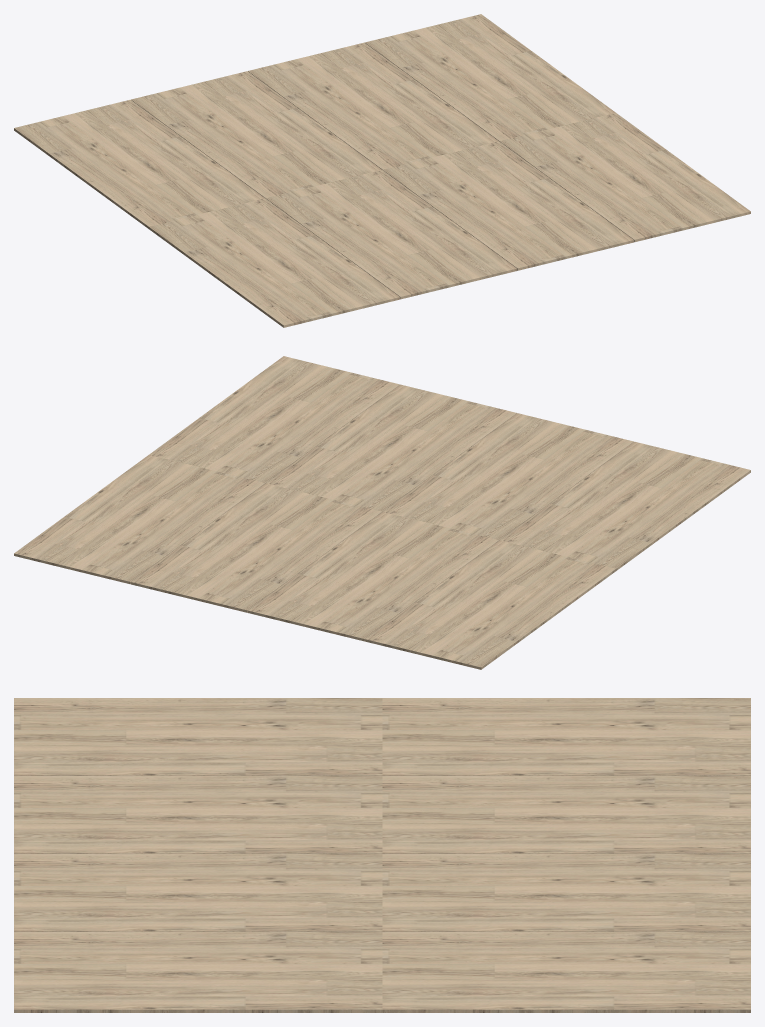
3 views of the same model, one above another, from view 1: azimuth 30°, elevation 25°; view 2: azimuth 150°, elevation 25°; view 3: azimuth 270°, elevation 25° (orthographic). The views are drawn at different scales.
Parts seen in each view (by area): view 1: 3DGeom-3, 3DGeom-2, 3DGeom-4, 3DGeom-5; view 2: 3DGeom-3, 3DGeom-2, 3DGeom-4, 3DGeom-5; view 3: 3DGeom-2, 3DGeom-3, 3DGeom-4, 3DGeom-5.
Boxes of the visible parts, x1,y1,x2,y2 form: 3DGeom-3: (14,99,400,327); 3DGeom-2: (364,14,750,242); 3DGeom-4: (248,42,633,270); 3DGeom-5: (131,71,516,299); 3DGeom-3: (364,441,750,669); 3DGeom-2: (14,356,400,584); 3DGeom-4: (131,384,516,612); 3DGeom-5: (248,413,633,641); 3DGeom-2: (14,932,750,1012); 3DGeom-3: (14,698,750,775); 3DGeom-4: (14,854,750,931); 3DGeom-5: (14,776,750,853).
Size of the model in its own units: 1 by 0.005 by 1.
2 materials, 1 textured.
